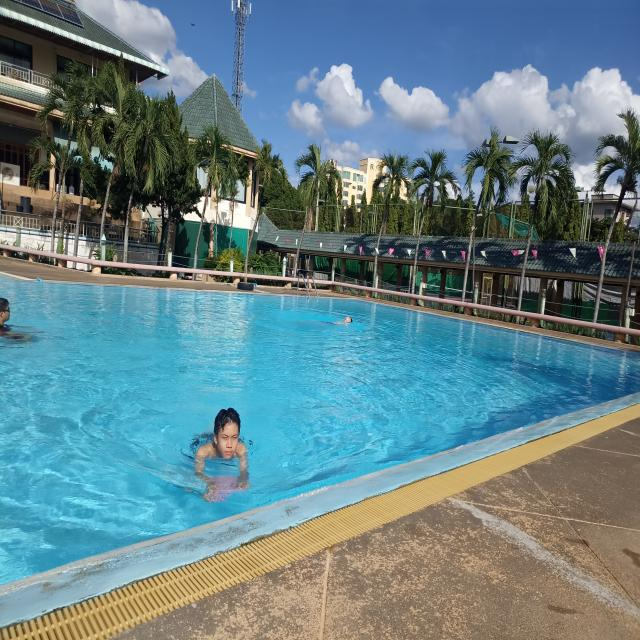Swimming: (176, 408, 272, 507), (0, 286, 47, 365), (295, 304, 364, 340)
